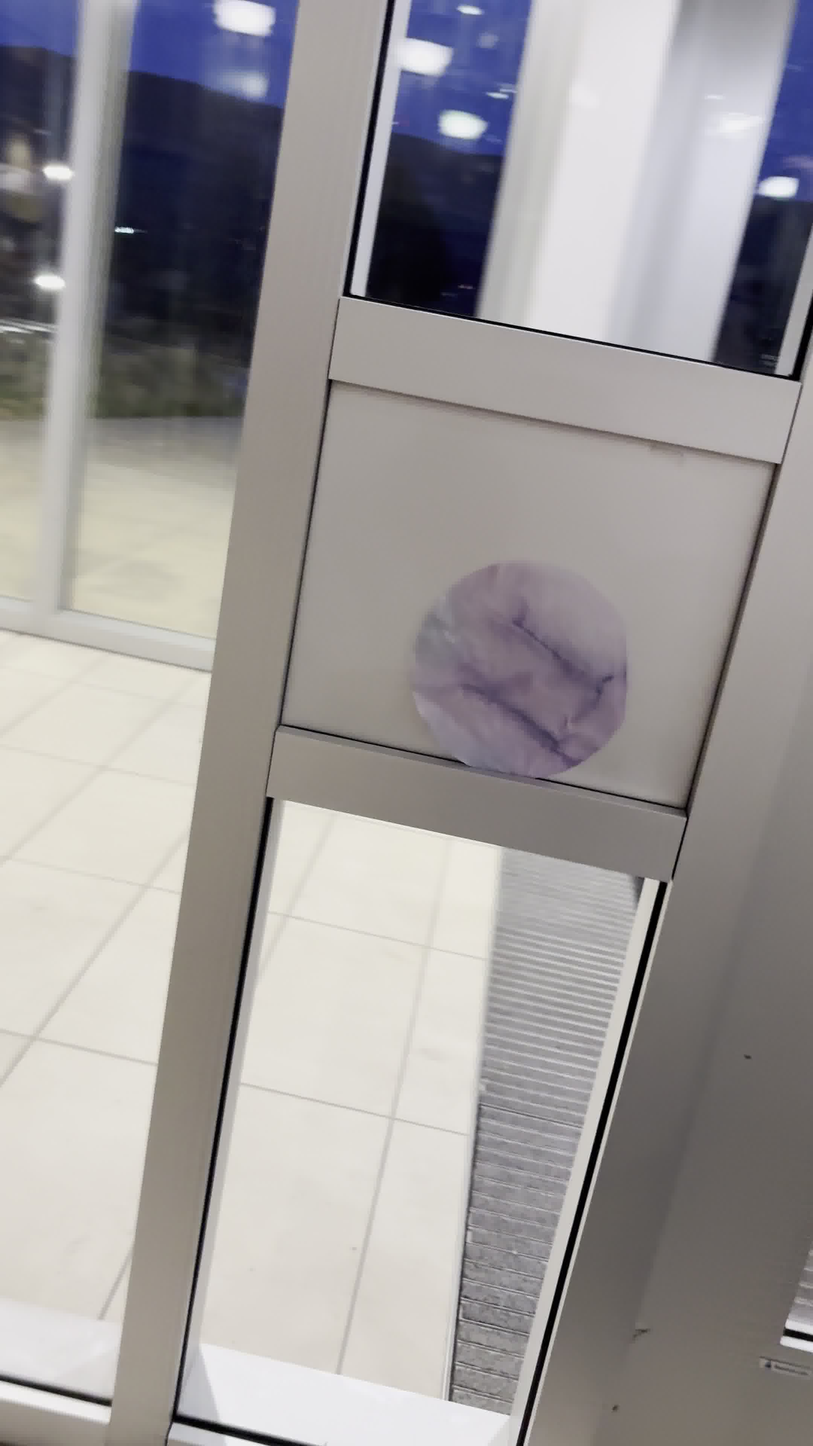Target: (404, 556, 633, 780)
